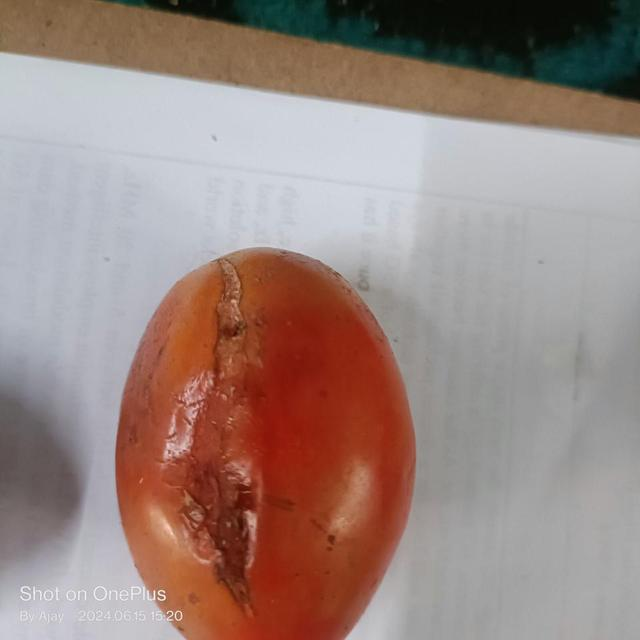Cracking Fruit: (70, 99, 172, 421)
